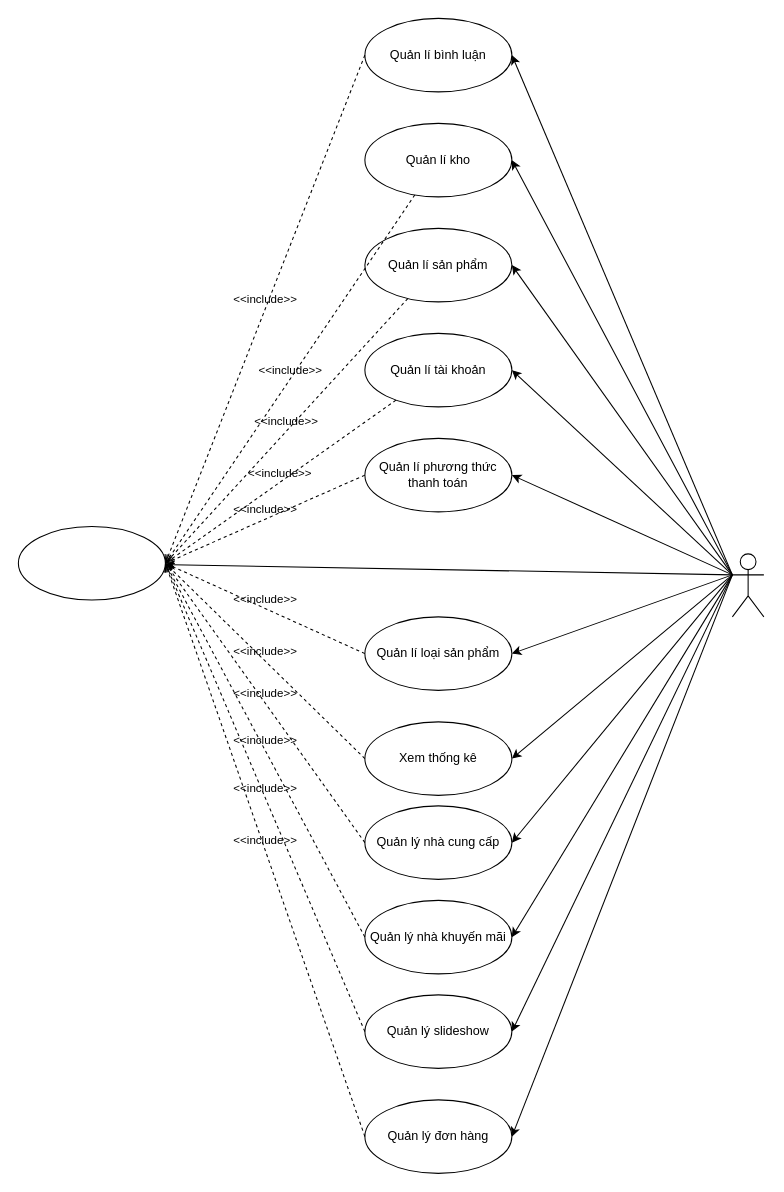
The diagram is 784 pixels wide and 1192 high, and some of its shapes have lost their labels. Here are the shapes that lost their labels. From the top down, the centre of each, then its label:
(x=91, y=563): Đăng nhập
(x=747, y=585): Admin
